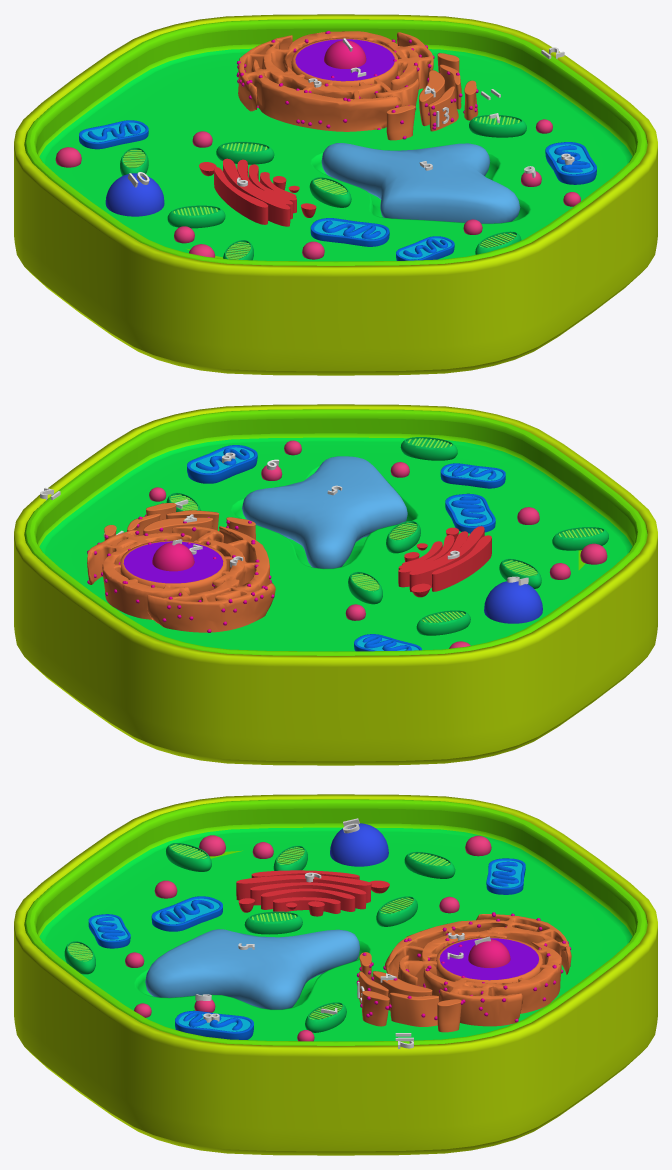
The model's file is bio project cell.fbx.
The picture shows the model from 3 angles, top to bottom: view 1: azimuth 30°, elevation 25°; view 2: azimuth 150°, elevation 25°; view 3: azimuth 270°, elevation 25°; orthographic projection.
Parts seen in each view (by area): view 1: Cylinder.006, Cylinder, Sphere.001, Cube.001, Cube, Sphere, Cylinder.002, Sphere.004, Cylinder.003, Cylinder.004, Cylinder.005, Sphere.006 (+7 smaller); view 2: Cylinder.006, Cylinder, Sphere.001, Cube.001, Cube, Sphere, Cylinder.002, Sphere.004, Cylinder.004, Cylinder.003, Cylinder.001, Sphere.009 (+7 smaller); view 3: Cylinder.006, Cylinder, Sphere.001, Cube.001, Cube, Sphere, Cylinder.002, Sphere.004, Cylinder.003, Cylinder.004, Cylinder.005, Cylinder.001 (+8 smaller).
Boxes of the visible parts, x1,y1,x2,y2 form: Cylinder.006: (14,14,657,375); Cylinder: (24,19,647,265); Sphere.001: (236,31,478,140); Cube.001: (321,143,520,223); Cube: (199,158,316,226); Sphere: (291,37,398,89); Cylinder.002: (55,119,580,259); Sphere.004: (105,173,164,216); Cylinder.003: (310,218,389,246); Cylinder.004: (545,142,596,184); Cylinder.005: (79,120,148,149); Sphere.006: (167,205,225,228); Cylinder.006: (14,404,657,765); Cylinder: (24,409,647,655); Sphere.001: (87,503,275,632); Cube.001: (242,456,407,568); Cube: (398,526,491,597); Sphere: (120,540,226,595); Cylinder.002: (149,440,607,648); Sphere.004: (484,581,542,623); Cylinder.004: (187,445,257,483); Cylinder.003: (445,493,495,533); Cylinder.001: (440,463,505,488); Sphere.009: (400,437,457,460); Cylinder.006: (14,794,657,1155); Cylinder: (24,799,647,1045); Sphere.001: (356,912,571,1032); Cube.001: (145,929,359,1009); Cube: (236,870,389,916); Sphere: (436,936,542,983); Cylinder.002: (125,835,491,1041); Sphere.004: (330,823,388,866); Cylinder.003: (151,896,222,931); Cylinder.004: (175,1010,253,1039); Cylinder.005: (486,858,525,894); Cylinder.001: (88,914,130,948).
Bounding box in the file's own units: 305 × 76.57 × 325.
